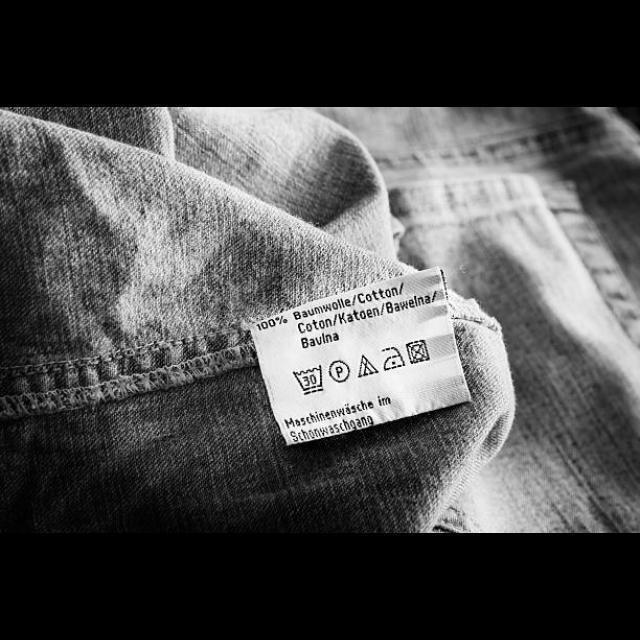30C: (290, 362, 328, 398)
DN_tumble_dry: (404, 339, 431, 365)
iron_low: (379, 344, 407, 372)
non_chlorine_bleach: (355, 352, 381, 380)
normal_dry_clean_solvents: (326, 358, 352, 384)
